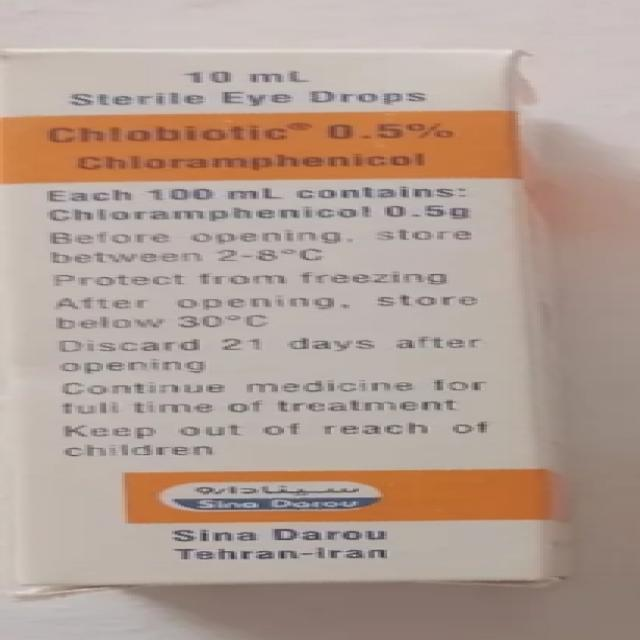drug-name: (47, 121, 457, 143)
